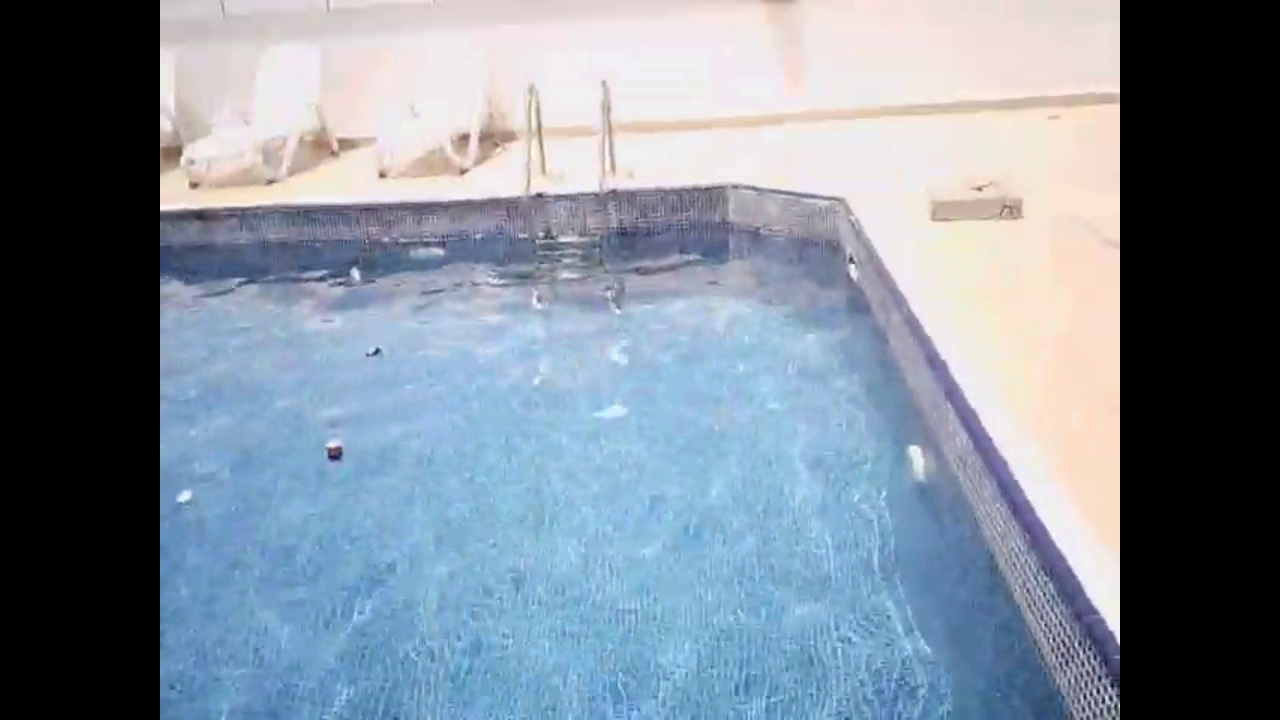debris: (320, 434, 350, 466), (171, 487, 198, 513), (362, 339, 386, 363)
